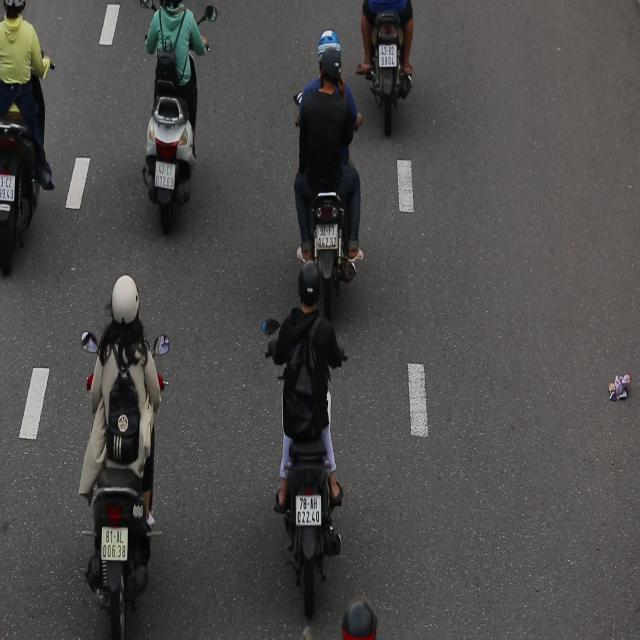motorbike: (74, 255, 180, 635), (263, 249, 344, 626), (281, 27, 374, 272)
